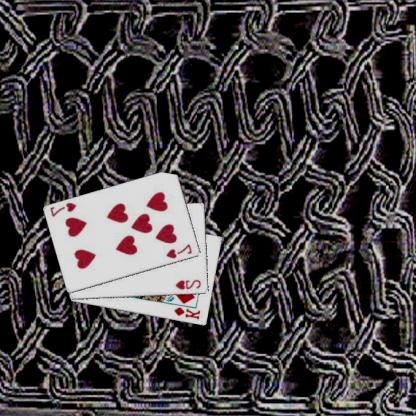2H: (175, 277, 204, 291)
7H: (49, 200, 80, 218), (166, 241, 195, 260)
KD: (173, 304, 203, 321)
